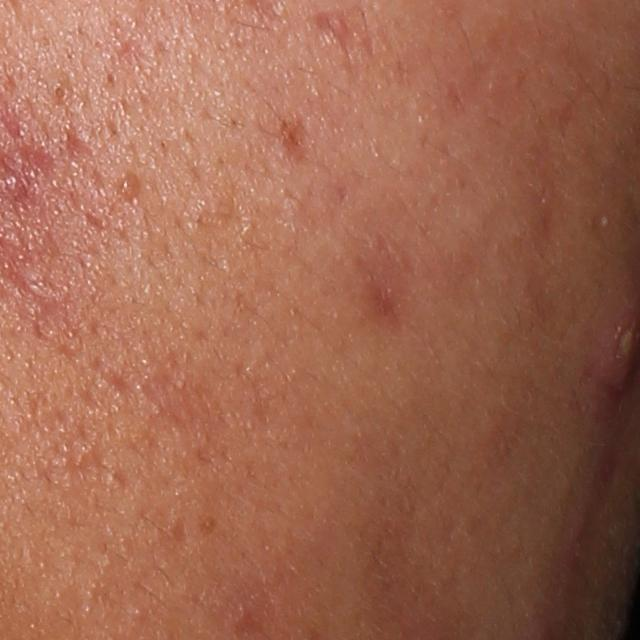atrophic_scar: (313, 4, 440, 106), (61, 120, 93, 163), (82, 206, 112, 237)
comedo: (47, 83, 65, 106), (133, 607, 145, 623)
